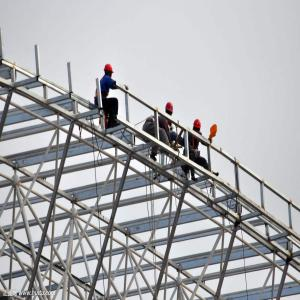red: (104, 62, 115, 82), (165, 101, 175, 120), (192, 118, 202, 136)
